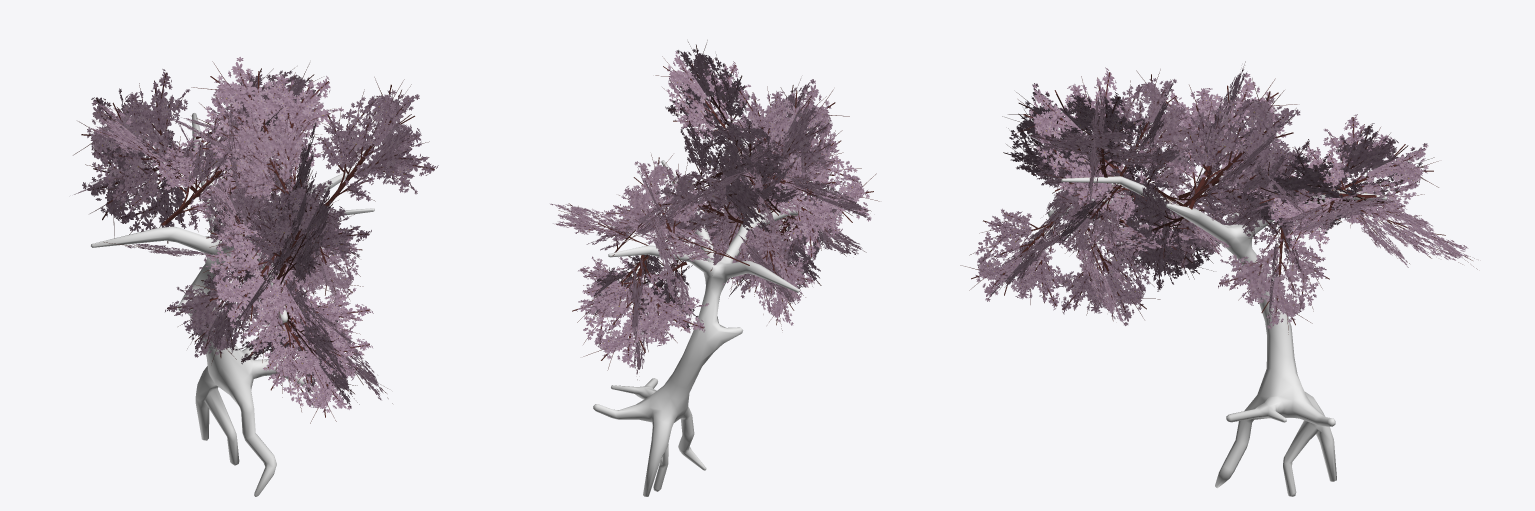
File: Treecliffjelmer1.fbx
3 views of the same model, side by side, from view 1: azimuth 30°, elevation 25°; view 2: azimuth 150°, elevation 25°; view 3: azimuth 270°, elevation 25° (orthographic). The views are drawn at different scales.
Parts seen in each view (by area): view 1: Treecliffjelmer1; view 2: Treecliffjelmer1; view 3: Treecliffjelmer1.
Boxes of the visible parts, x1=… form: Treecliffjelmer1: x1=73, y1=57, x2=438, y2=496; Treecliffjelmer1: x1=550, y1=40, x2=879, y2=496; Treecliffjelmer1: x1=960, y1=61, x2=1477, y2=496.
Bounding box in the file's own units: 626 × 913 × 1045.
